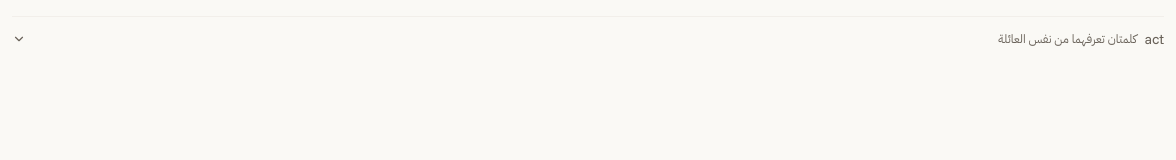
Test: the family behind the list › orders the strongest-remembered word first
Click the button "act كلمتان تعرفهما من نفس العائلة": (1067,38) [12,29,1164,49]
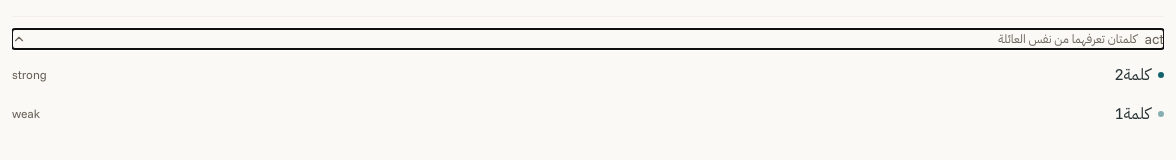
Now the list item "كلمة2 strong" is shown, box [12,64,1164,84]
